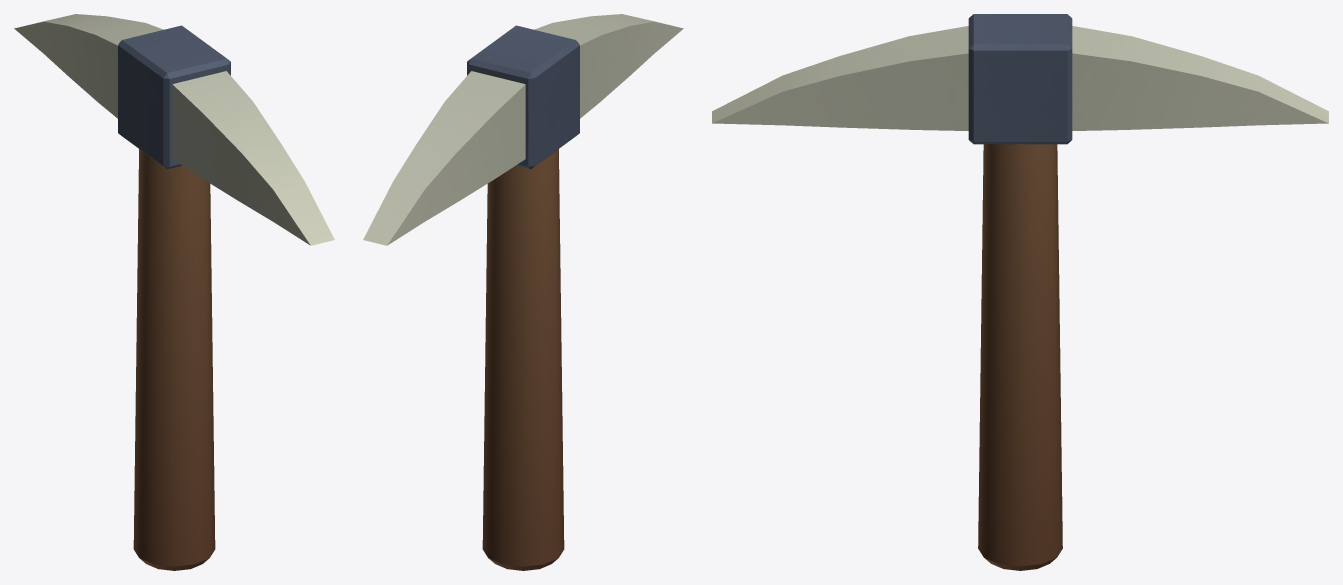
The model's file is pickaxe6.fbx.
The picture shows the model from 3 angles, left to right: view 1: azimuth 30°, elevation 25°; view 2: azimuth 150°, elevation 25°; view 3: azimuth 270°, elevation 25°; orthographic projection. The views are drawn at different scales.
Parts seen in each view (by area): view 1: Plane; view 2: Plane; view 3: Plane.
Part boxes in pixels (x1,y1,x2,y2): Plane: (14, 14, 334, 570); Plane: (363, 14, 683, 570); Plane: (712, 14, 1328, 570).
Bounding box in the file's own units: 0.1906 × 1.32 × 1.39.
